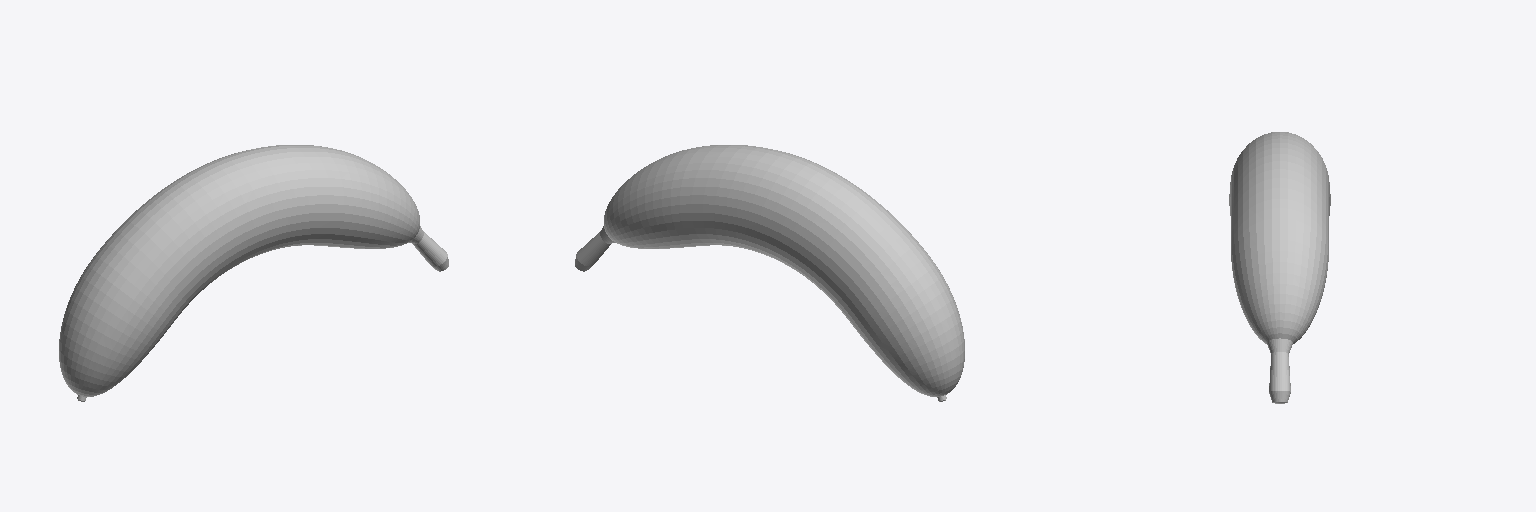
File: bornana.obj
3 views of the same model, side by side, from view 1: azimuth 30°, elevation 25°; view 2: azimuth 150°, elevation 25°; view 3: azimuth 270°, elevation 25° (orthographic).
Visible parts, largest first — view 1: banana; view 2: banana; view 3: banana.
Part boxes in pixels (left/top/right/bottom): banana: left=59, top=145, right=448, bottom=401; banana: left=575, top=145, right=964, bottom=401; banana: left=1229, top=132, right=1330, bottom=403.
Bounding box in the file's own units: 10.57 × 5.4 × 2.42.